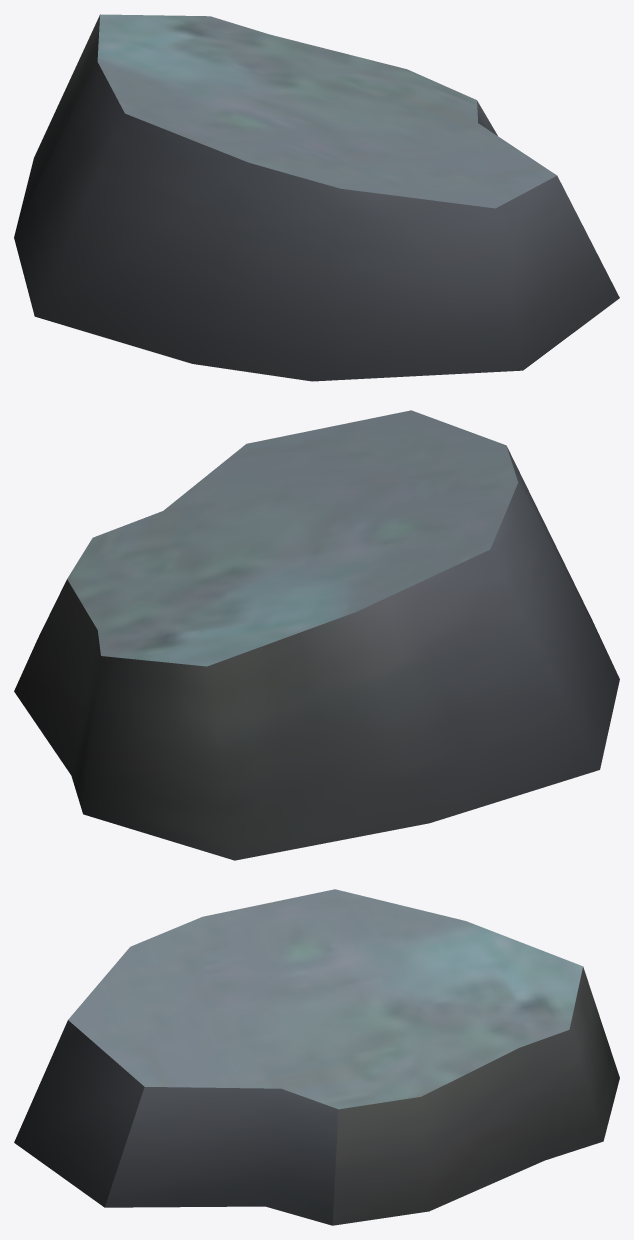
The model's file is stone_1.FBX.
3 renders of one model, top to bottom at view 1: azimuth 30°, elevation 25°; view 2: azimuth 150°, elevation 25°; view 3: azimuth 270°, elevation 25°, orthographic. The views are drawn at different scales.
Visible parts, largest first — view 1: stone_1; view 2: stone_1; view 3: stone_1.
Boxes of the visible parts, left/top/right/bottom form: stone_1: left=14, top=14, right=619, bottom=381; stone_1: left=14, top=410, right=619, bottom=860; stone_1: left=14, top=889, right=619, bottom=1225.
Size of the model in its own units: 152 by 52.2 by 179.
